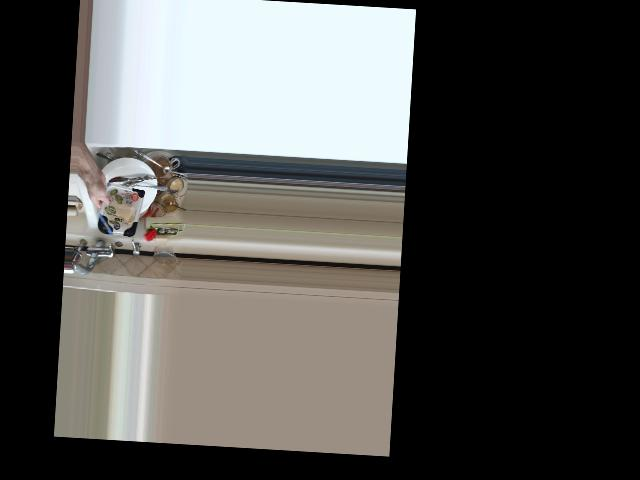cheese: (84, 173, 144, 241)
